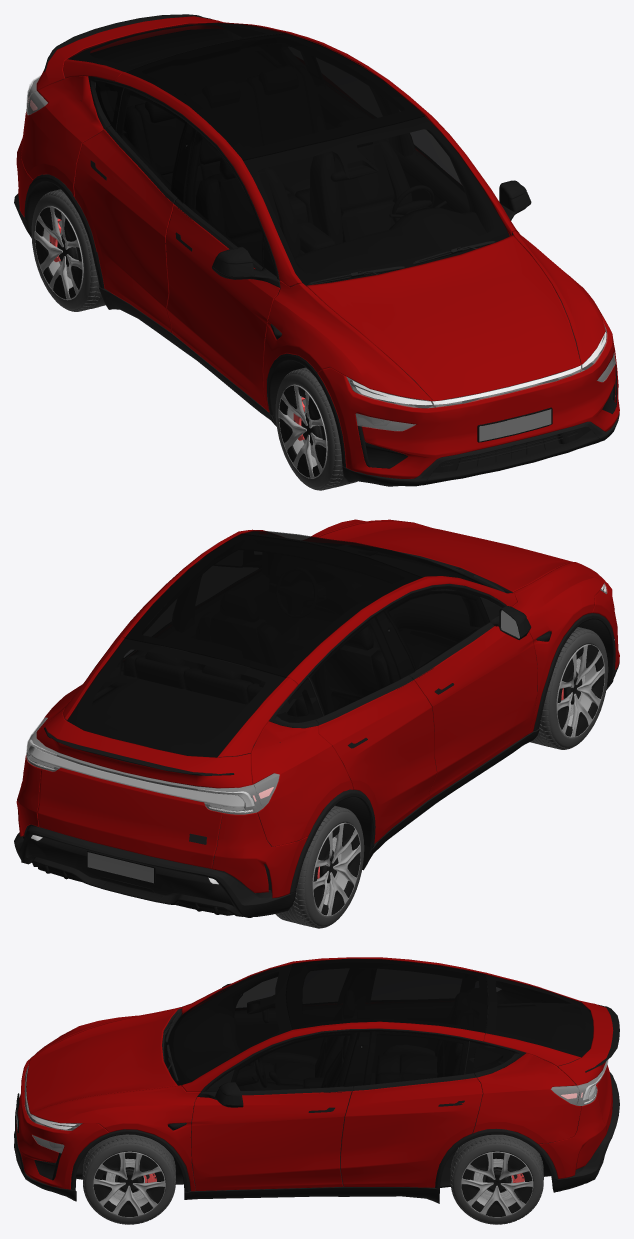
File: modely-2025-performance-draco.glb
3 renders of one model, top to bottom at view 1: azimuth 30°, elevation 25°; view 2: azimuth 150°, elevation 25°; view 3: azimuth 270°, elevation 25°, orthographic. The views are drawn at different scales.
Visible parts, largest first — view 1: Object_5, Object_9, Object_34, Object_3, Object_35, Object_38, Object_36, Object_18, Object_23, Object_32, Object_10, Object_33 (+6 smaller); view 2: Object_5, Object_9, Object_3, Object_34, Object_35, Object_38, Object_18, Object_36, Object_23, Object_39, Object_33, Object_32 (+5 smaller); view 3: Object_5, Object_9, Object_34, Object_35, Object_3, Object_38, Object_23, Object_17, Object_32, Object_20, Object_19, Object_33 (+5 smaller).
Part boxes in pixels (x1,y1,x2,y2): Object_5: (16, 16, 619, 478); Object_9: (68, 22, 509, 285); Object_34: (64, 25, 495, 381); Object_3: (126, 33, 424, 160); Object_35: (14, 23, 615, 467); Object_38: (44, 14, 617, 484); Object_36: (35, 207, 619, 486); Object_18: (27, 76, 327, 478); Object_23: (31, 195, 334, 488); Object_32: (27, 124, 613, 442); Object_10: (346, 325, 607, 407); Object_33: (26, 77, 615, 431); Object_5: (16, 519, 619, 898); Object_9: (67, 530, 489, 757); Object_3: (125, 533, 422, 677); Object_34: (63, 534, 488, 770); Object_35: (14, 531, 615, 917); Object_38: (32, 584, 612, 916); Object_18: (27, 644, 604, 916); Object_36: (313, 548, 619, 915); Object_23: (305, 633, 608, 926); Object_39: (26, 717, 279, 814); Object_33: (26, 552, 505, 814); Object_32: (38, 583, 613, 891); Object_5: (16, 957, 613, 1191); Object_9: (164, 964, 593, 1090); Object_34: (173, 971, 593, 1183); Object_35: (71, 965, 619, 1216); Object_3: (285, 958, 487, 1032); Object_38: (14, 964, 619, 1183); Object_23: (85, 1143, 541, 1223); Object_17: (93, 1046, 533, 1217); Object_32: (24, 1032, 579, 1193); Object_20: (450, 1134, 543, 1224); Object_19: (82, 1134, 175, 1224); Object_33: (32, 1008, 607, 1152).
Size of the model in its own units: 2.12 by 1.65 by 4.78.
Materials: 23 (1 with a texture image).
